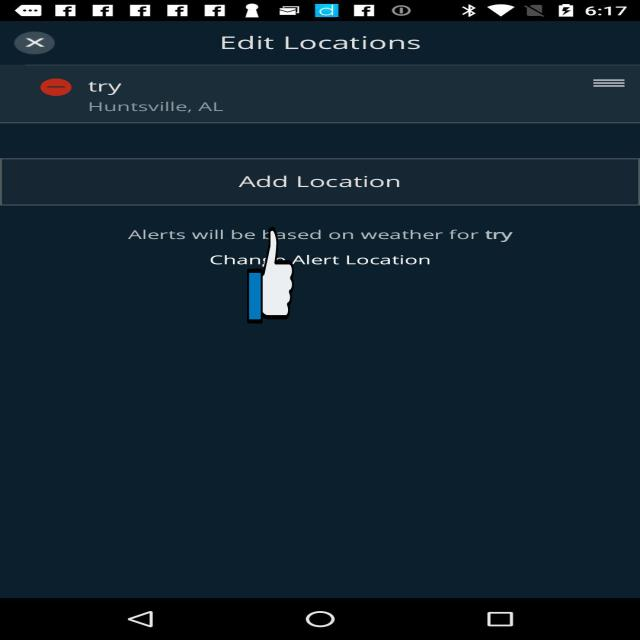privacy zuckering: (247, 224, 294, 326)
